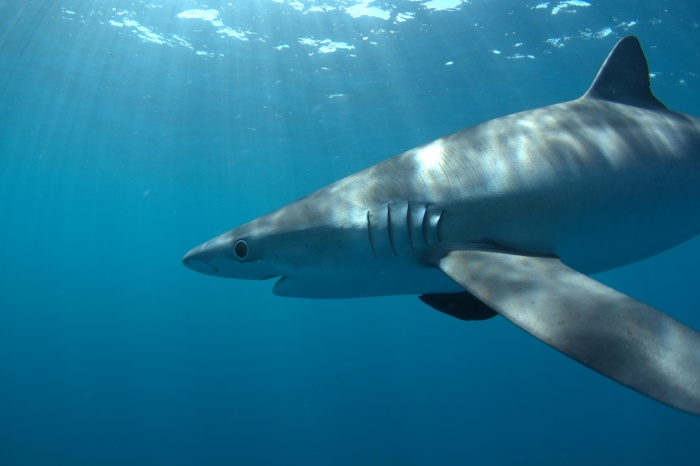Azul: (161, 24, 700, 421)
